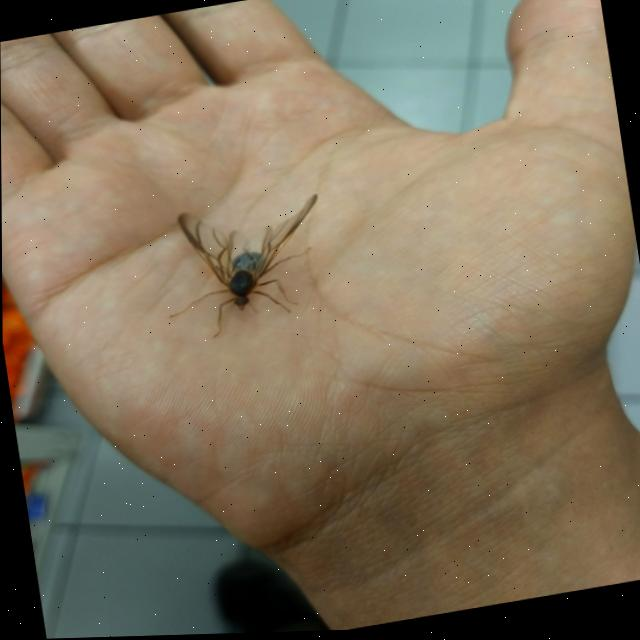Alive-Male-Alate: (149, 190, 340, 348)
